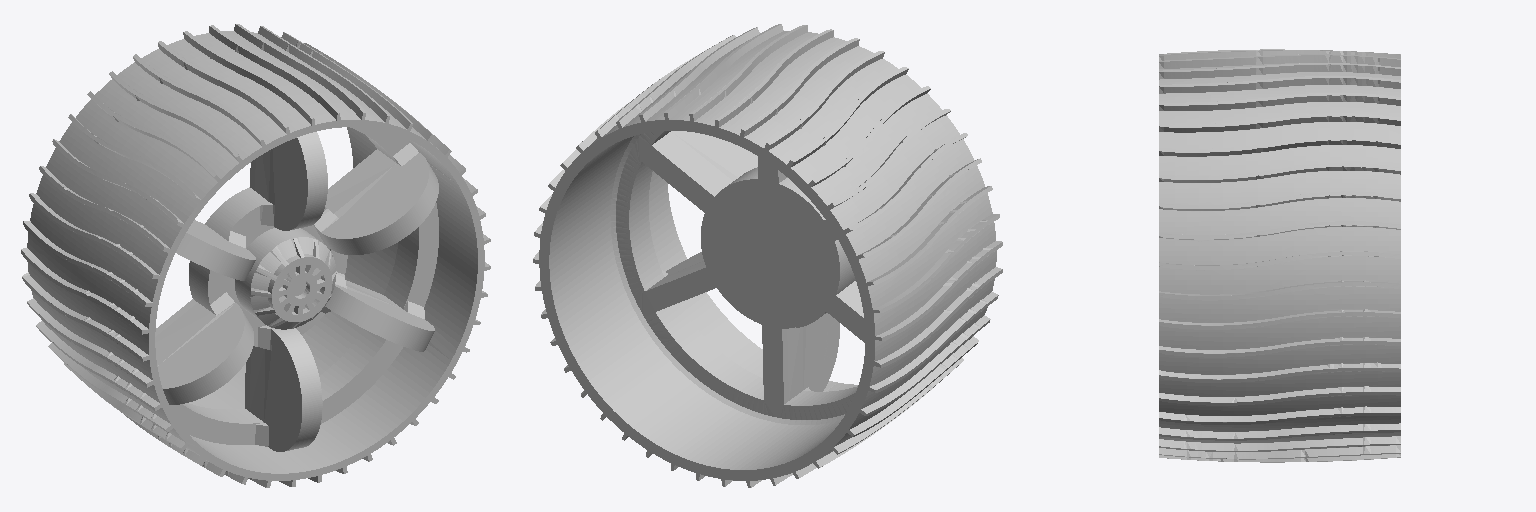
File: viper_wheel.obj
The picture shows the model from 3 angles: view 1: azimuth 30°, elevation 25°; view 2: azimuth 150°, elevation 25°; view 3: azimuth 270°, elevation 25°; orthographic projection.
Visible parts, largest first — view 1: 1_sw; view 2: 1_sw; view 3: 1_sw.
Part boxes in pixels (bbox=[...]): 1_sw: bbox=[21, 24, 490, 487]; 1_sw: bbox=[533, 24, 1002, 487]; 1_sw: bbox=[1159, 49, 1400, 462].
Size of the model in its own units: 0.5 by 0.5 by 0.2935.